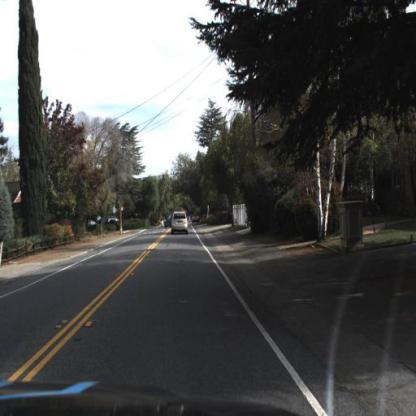car: (171, 212, 194, 241), (193, 213, 201, 228)
